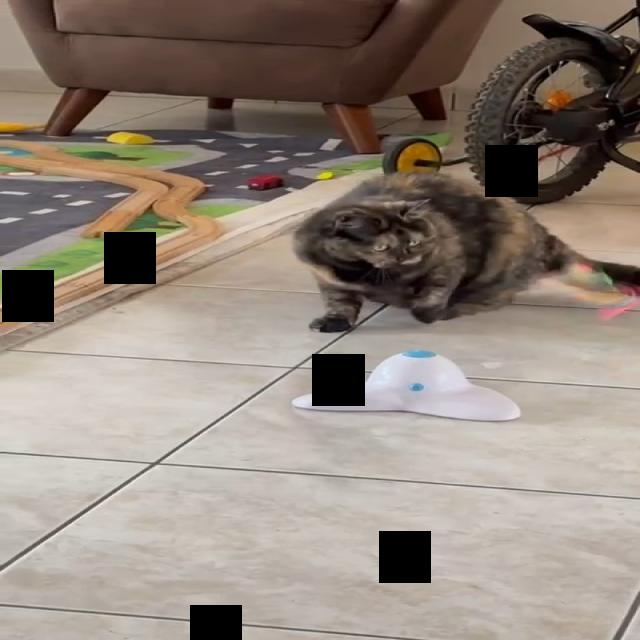authorized: (291, 170, 638, 333)
